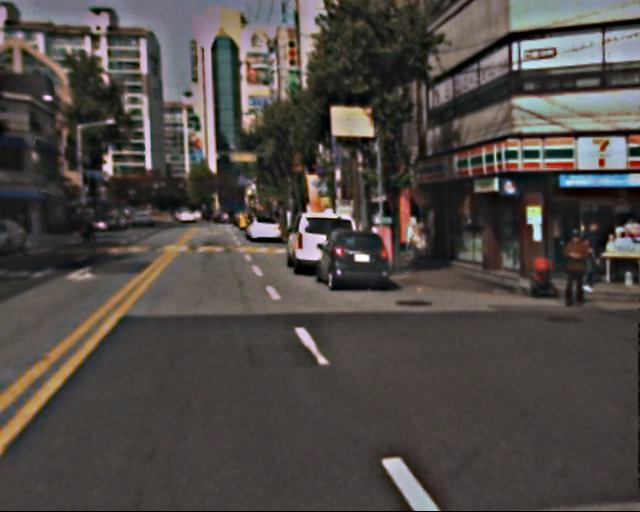person: (558, 228, 599, 310), (576, 217, 611, 292), (79, 206, 96, 247)
